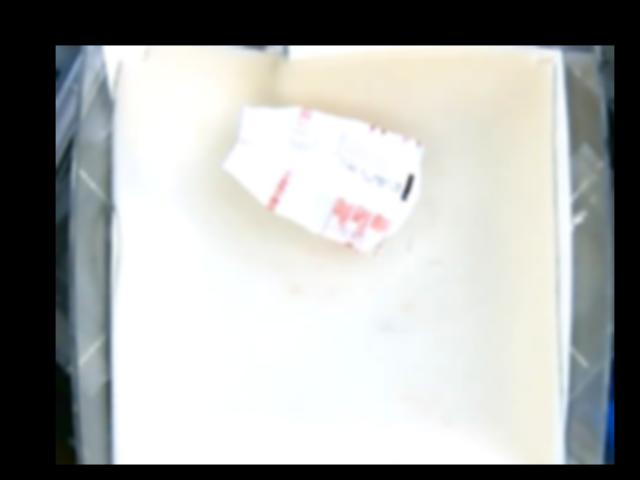Bottle: (223, 103, 424, 260)
